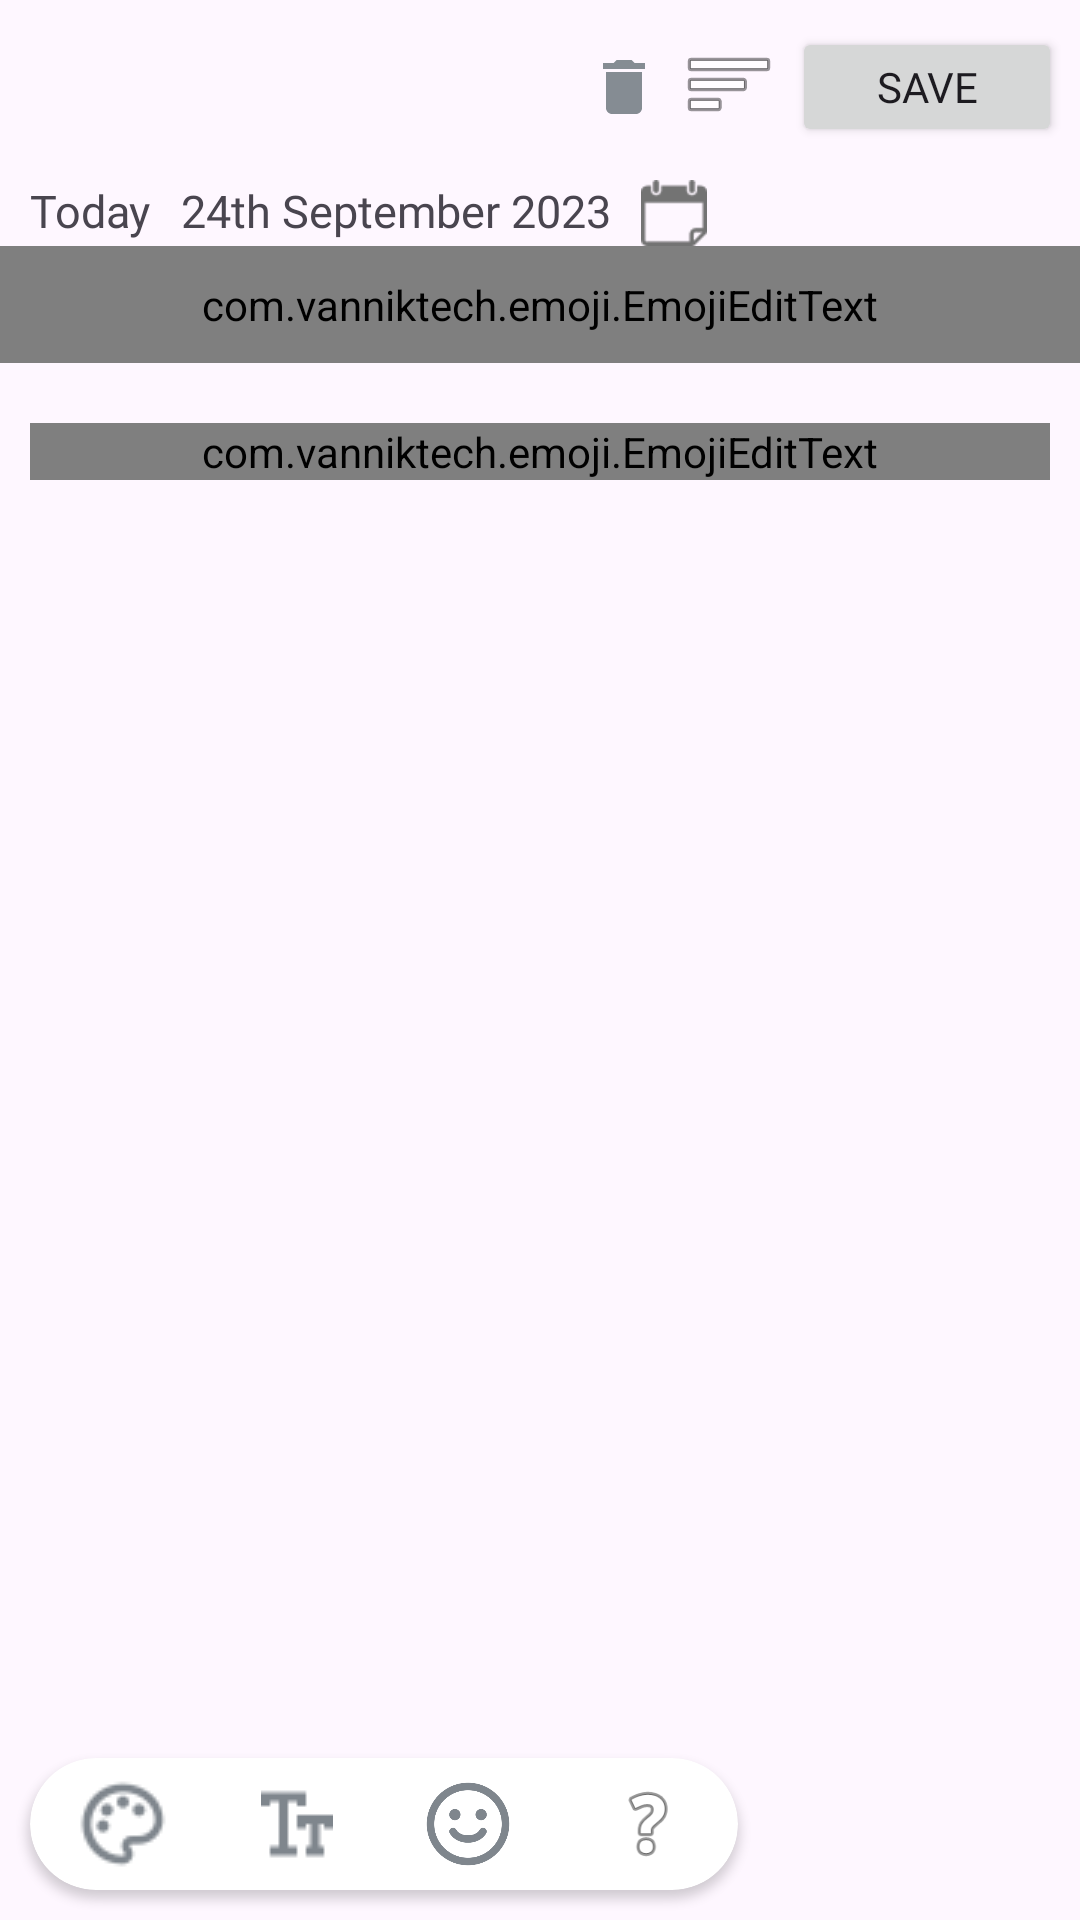

Named icons in this screenshot (1080w x 1920h) and their centers, (x,y):
calender view: (674,213)
emoji: (468,1824)
palette: (122,1824)
sort by size: (729,84)
